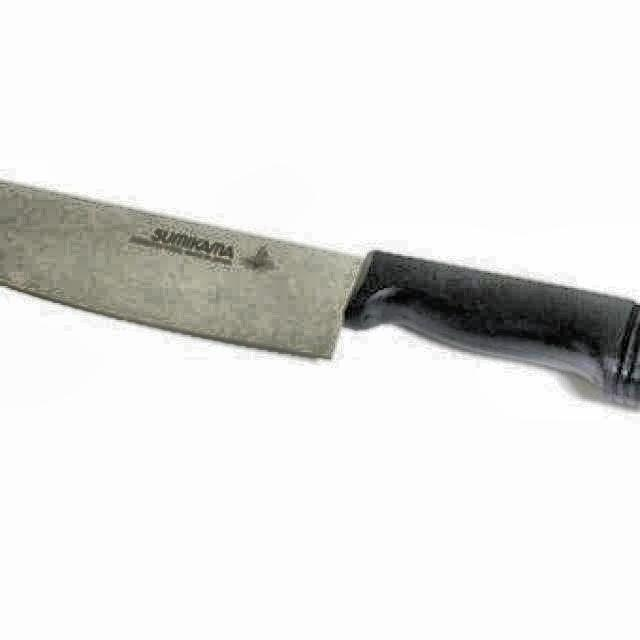knife: (1, 177, 640, 415)
